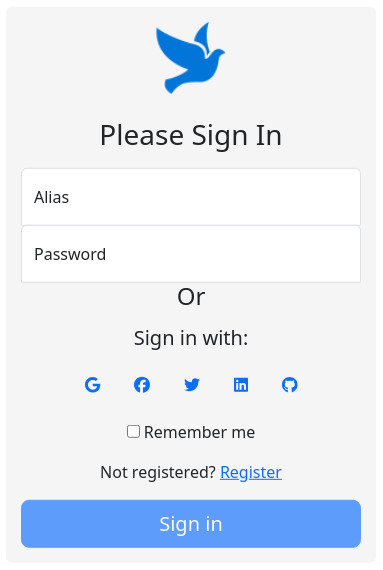
Test: Login Component › disabled the sign-in button if either field is cleared
Type "a" into the field labelled "Alias". click: (191, 196)
box: [21,167,361,225]
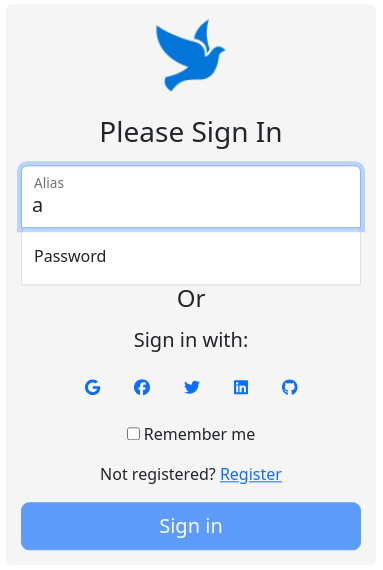
Type "b" into the password field labelled "Password". click: (191, 256)
box: [21,227,361,285]
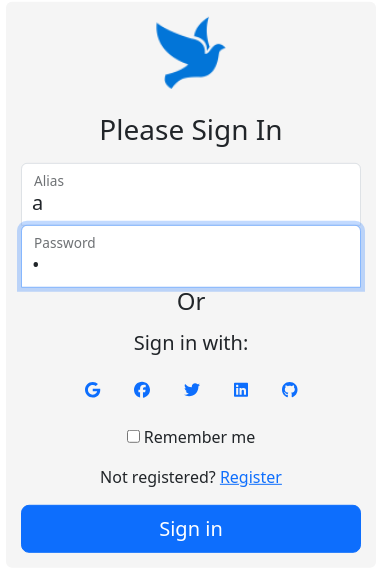
Clear the field labelled "Alias". click: (191, 194)
box: [21,162,361,225]
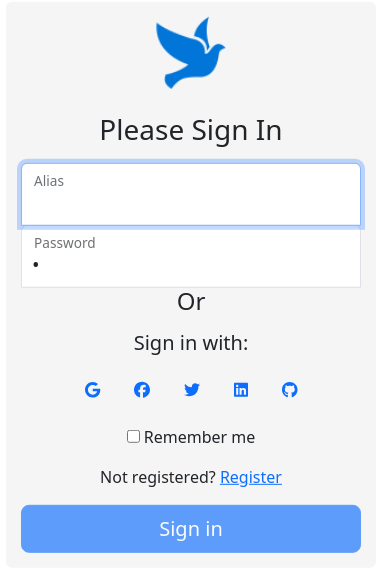
Expected: the button "Sign in" is disabled, [21,505,361,553]
Type "1" into the field labelled "Alias". click: (191, 194)
box: [21,162,361,225]
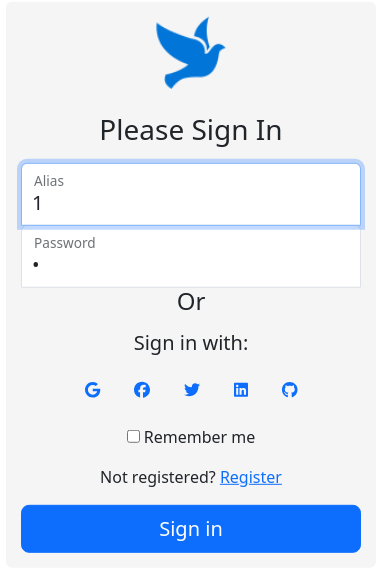
Expected: the button "Sign in" is enabled, [21,505,361,553]
Clear the password field labelled "Password". click: (191, 256)
box: [21,224,361,287]
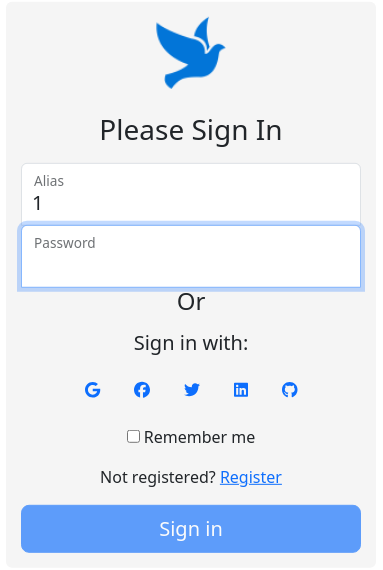
Expected: the button "Sign in" is disabled, [21,505,361,553]
